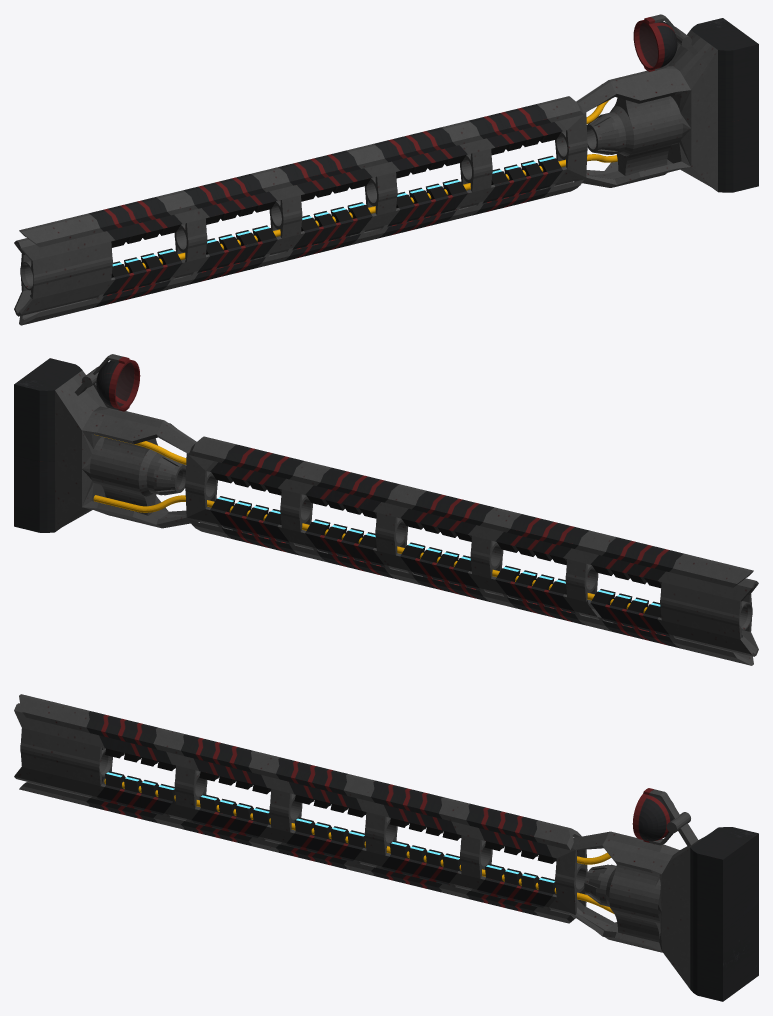
Rendered from Gun.glb.
3 views of the same model, one above another, from view 1: azimuth 30°, elevation 25°; view 2: azimuth 150°, elevation 25°; view 3: azimuth 330°, elevation 25° (orthographic).
Parts seen in each view (by area): view 1: Gun_metallic, Gun.006, Gun_magnets, Gun_cable, Gun_lights, Gun_IR; view 2: Gun_metallic, Gun.006, Gun_magnets, Gun_cable, Gun_lights, Gun_IR; view 3: Gun_metallic, Gun.006, Gun_magnets, Gun_cable, Gun_lights.
Part boxes in pixels (x1,y1,x2,y2): Gun_metallic: (14, 14, 717, 325); Gun.006: (30, 17, 758, 308); Gun_magnets: (111, 131, 561, 277); Gun_cable: (125, 99, 617, 272); Gun_lights: (112, 157, 554, 266); Gun_IR: (639, 23, 657, 66); Gun_metallic: (55, 354, 758, 665); Gun.006: (14, 356, 742, 648); Gun_magnets: (211, 472, 661, 617); Gun_cable: (93, 434, 647, 612); Gun_lights: (218, 497, 660, 606); Gun_IR: (116, 362, 134, 406); Gun_metallic: (14, 694, 708, 988); Gun.006: (86, 711, 758, 1001); Gun_magnets: (105, 748, 556, 894); Gun_cable: (104, 779, 614, 913); Gun_lights: (106, 772, 554, 882).
Size of the model in its own units: 0.6842 by 0.1597 by 0.0589.
Materials: 6 (2 with a texture image).
